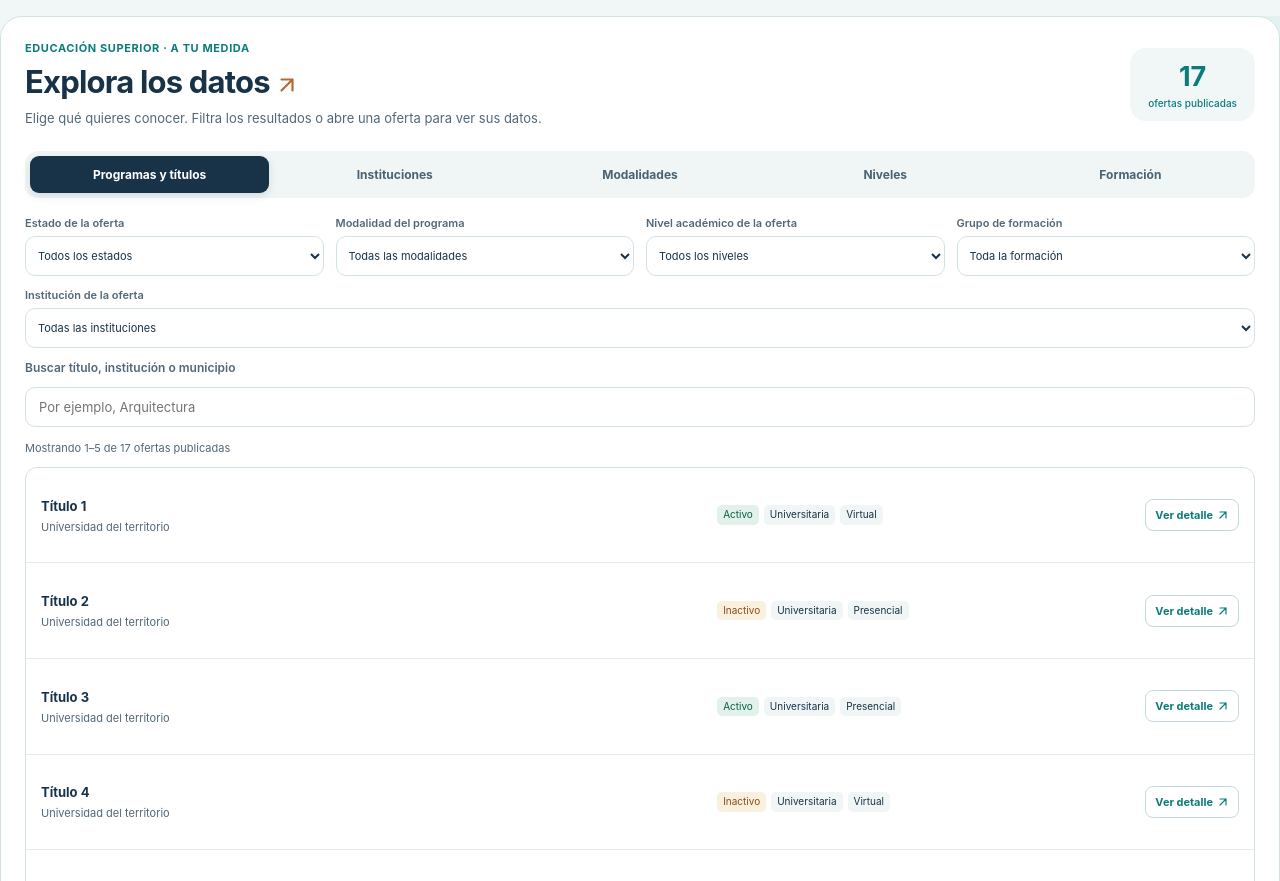
Test case: explorador de educación superior › abre el detalle completo e informa solo las consultas realmente parciales
Click the button with aria-label "Ver detalle de Título 1 en Universidad del territorio". click: x=1192, y=515
box: [1145,499,1239,531]
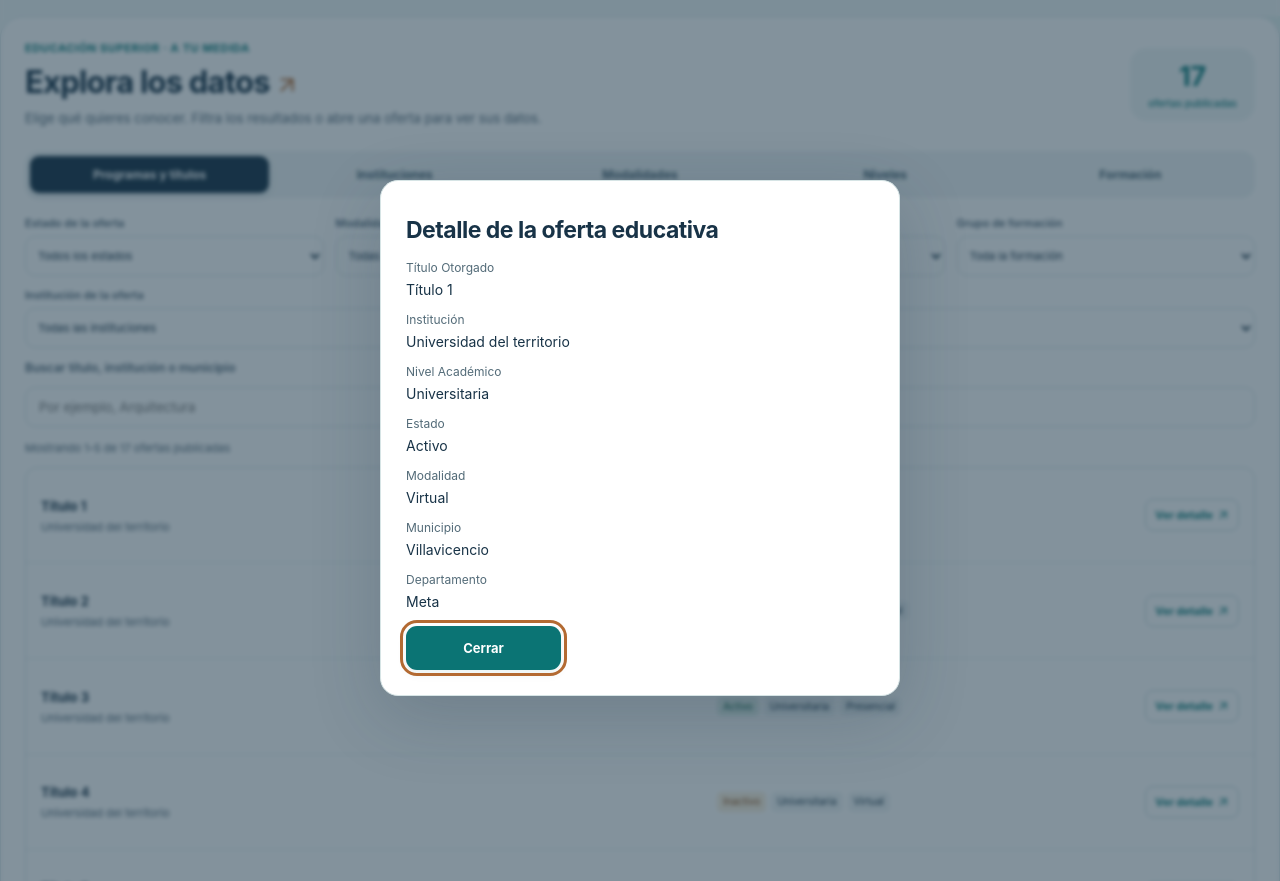
Result: the text "Villavicencio" is shown at [406,541,489,558]
Result: the text "Modalidad" is shown at [406,468,465,483]
Result: the text "Virtual" is shown at [406,489,449,506]
Click the button "Cerrar". click: x=484, y=648
box: [406,626,561,670]
(page scrolled)
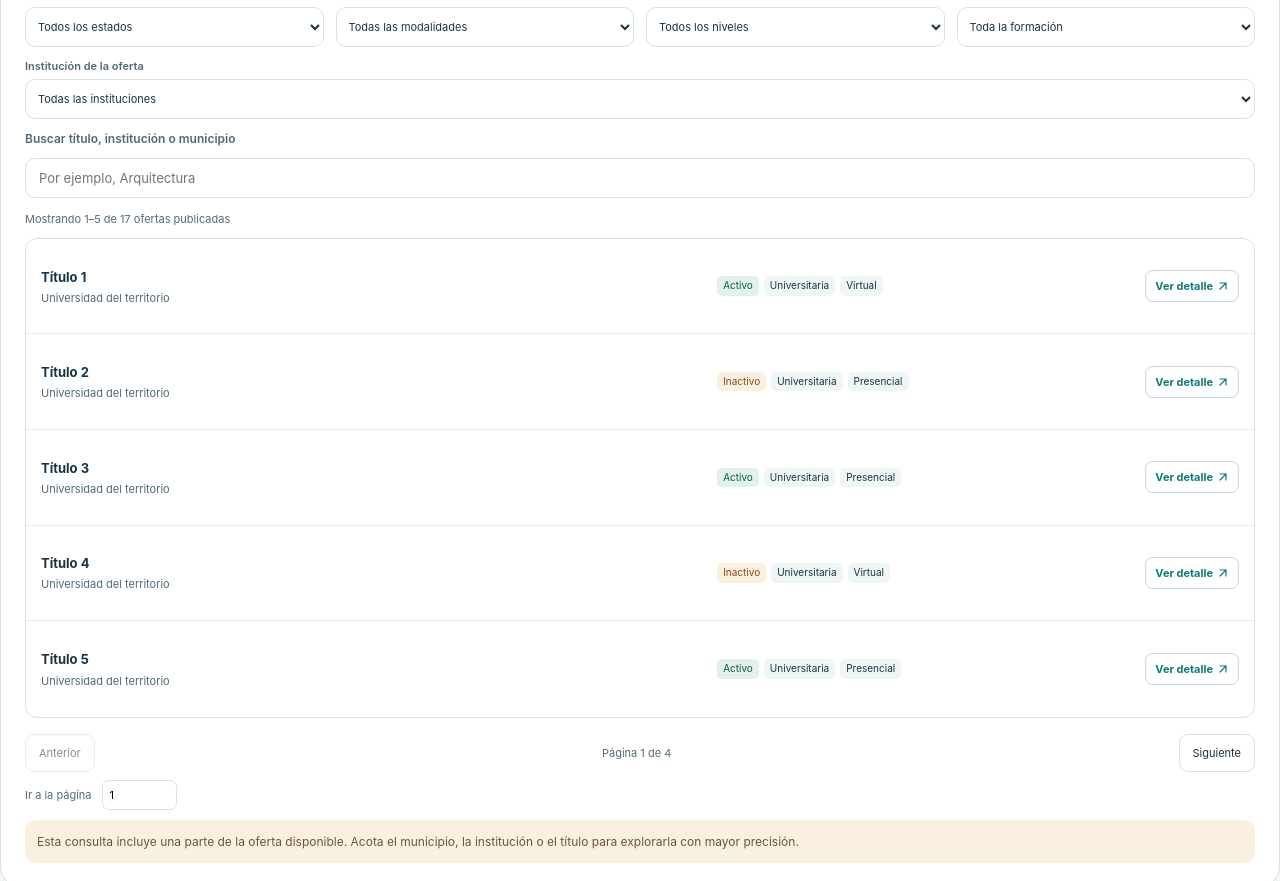
Expected: the text "incluye una parte de la oferta disponible" is shown, [37,834,799,849]
Result: the dialog is gone
